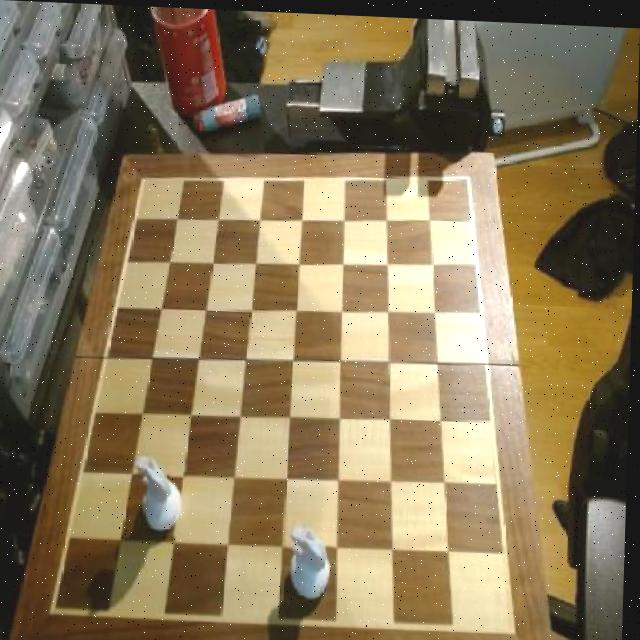white-king: (289, 518, 340, 602), (137, 453, 188, 536)
